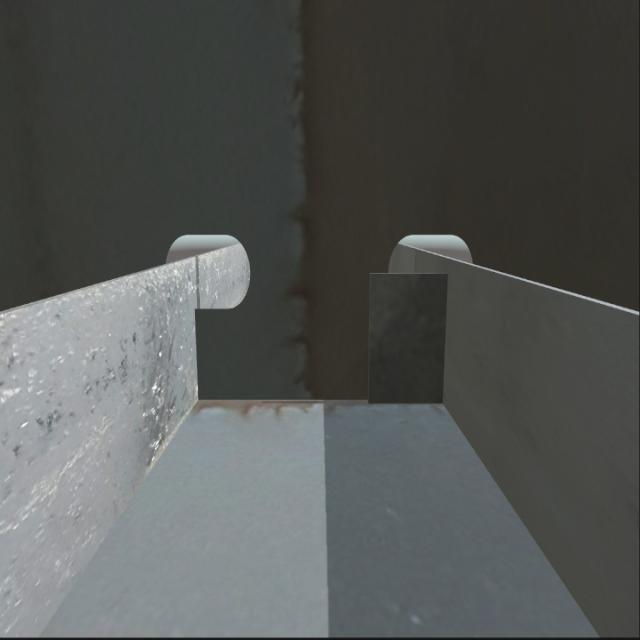fillet_yong_jeop_jang: (190, 394, 442, 410)
longi_yong_jeop_jang: (434, 269, 452, 410), (190, 302, 204, 404)
plate_CP01: (364, 271, 448, 401)
